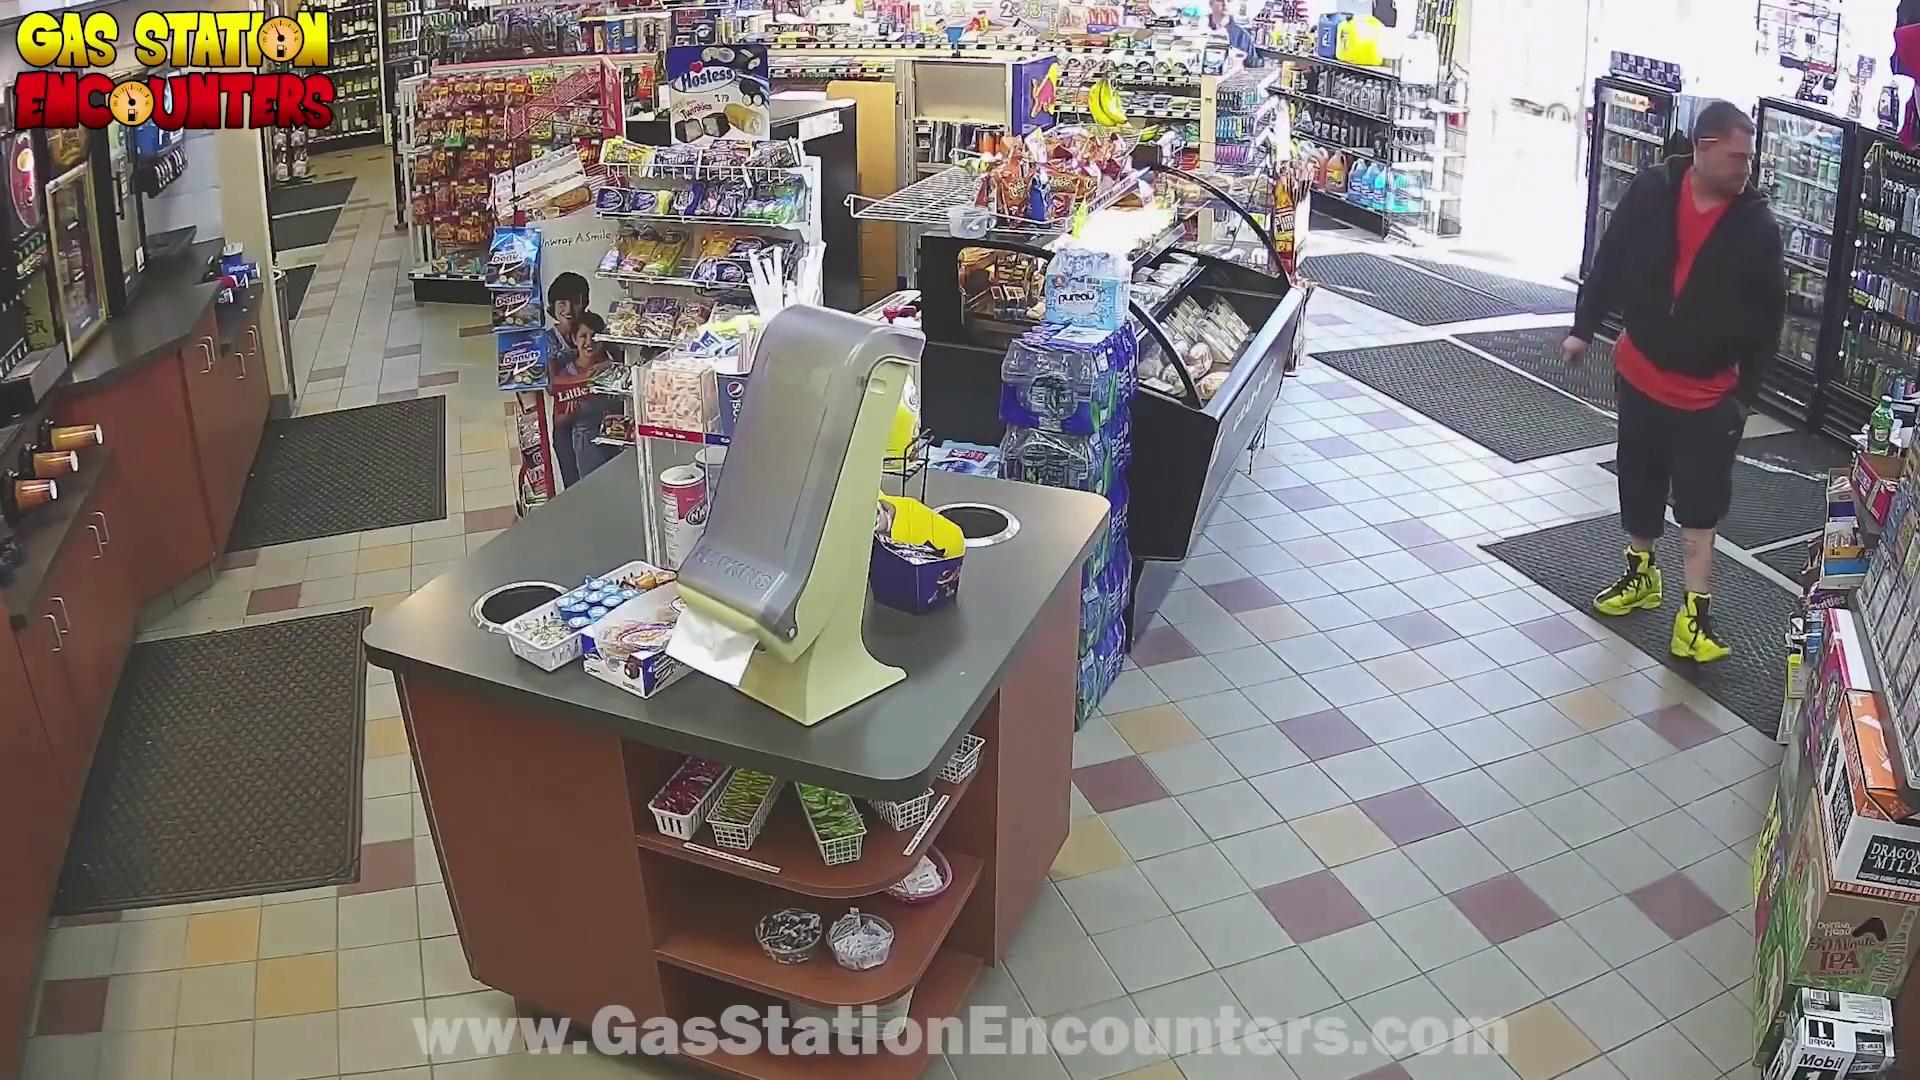Regular: (1453, 71, 1836, 723)
